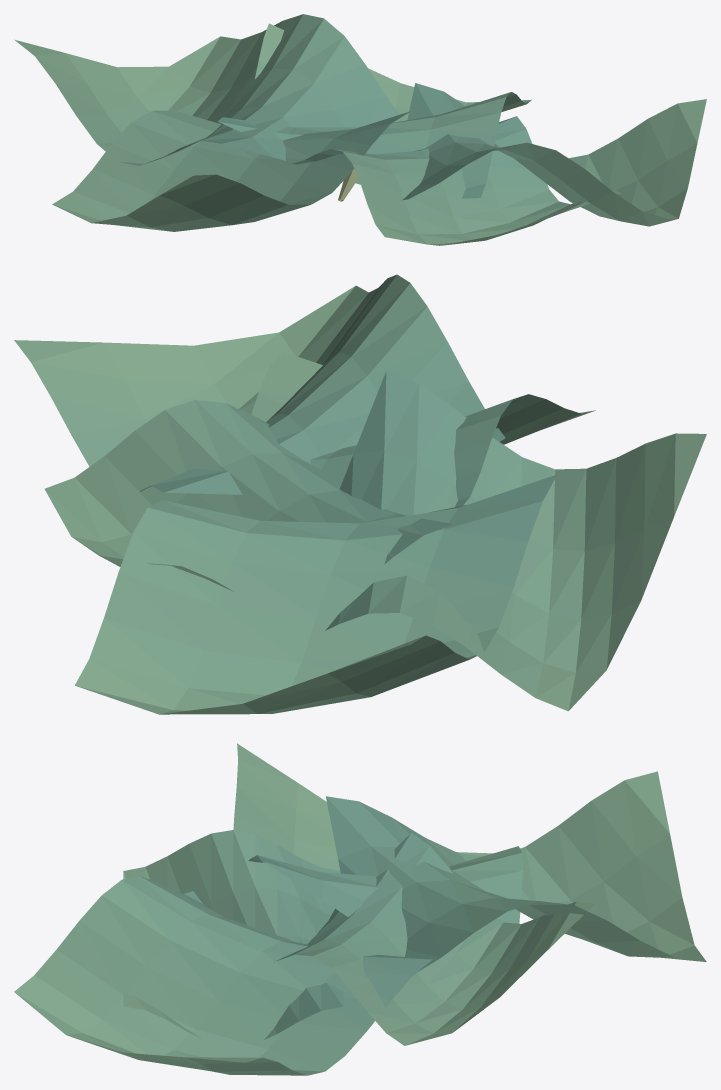
The model's file is SheetHabitat2.gltf.
3 views of the same model, one above another, from view 1: azimuth 30°, elevation 25°; view 2: azimuth 150°, elevation 25°; view 3: azimuth 270°, elevation 25° (orthographic). The views are drawn at different scales.
Visible parts, largest first — view 1: SheetHabitat2; view 2: SheetHabitat2; view 3: SheetHabitat2.
Part boxes in pixels (box(x1,y1,x2,y2)): SheetHabitat2: box(14, 14, 706, 245); SheetHabitat2: box(14, 274, 706, 714); SheetHabitat2: box(14, 743, 706, 1075).
Bounding box in the file's own units: 3.54 × 0.7865 × 3.78.
